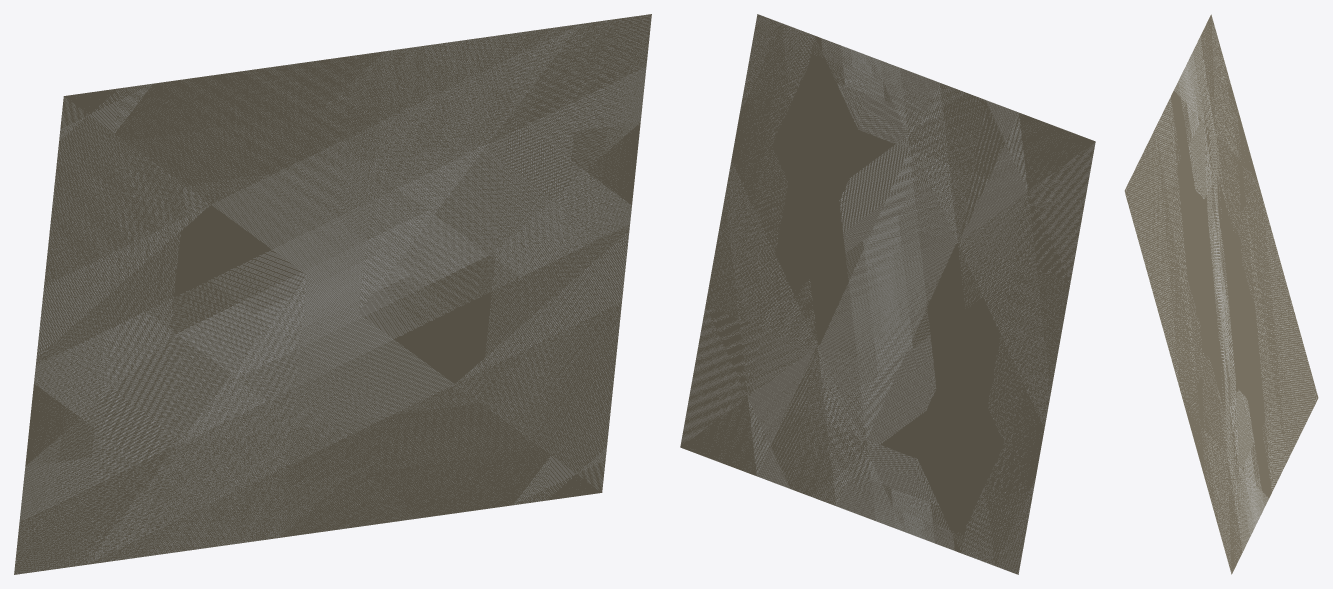
File: 大本钟42.dae
3 views of the same model, side by side, from view 1: azimuth 30°, elevation 25°; view 2: azimuth 150°, elevation 25°; view 3: azimuth 270°, elevation 25° (orthographic). The views are drawn at different scales.
Parts seen in each view (by area): view 1: SketchUp; view 2: SketchUp; view 3: SketchUp.
Part boxes in pixels (x1,y1,x2,y2): SketchUp: (14,14,651,574); SketchUp: (680,14,1095,574); SketchUp: (1124,14,1318,574).
Size of the model in its own units: 41.19 by 18.13 by 38.6.
